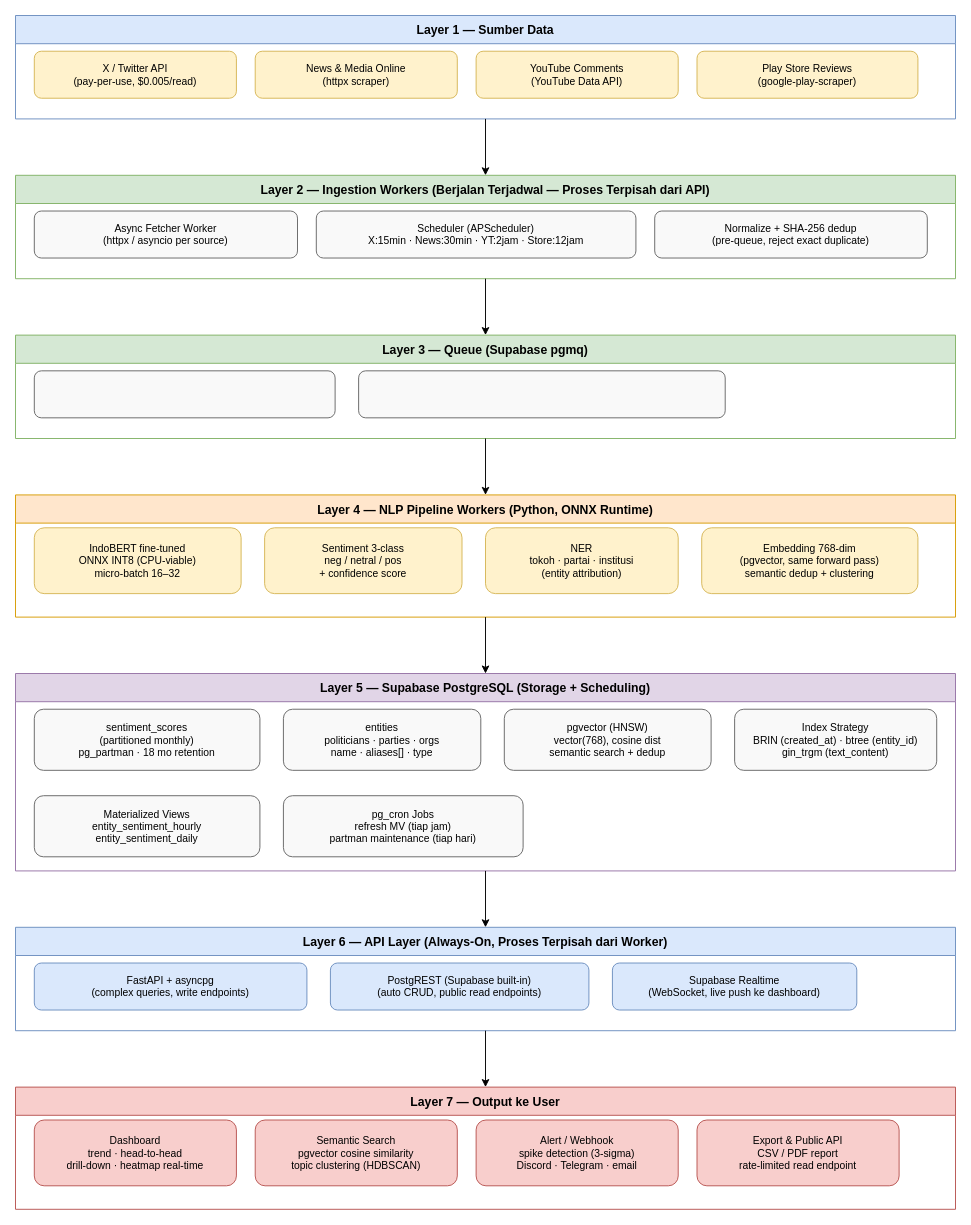
This 971x1225 diagram has some shape labels left out. The shapes that lost their labels are listed below. From the top down, each one's centre as x and y in pixels, then its label:
pixel 184 394: pgmq Queue visibility timeout · retry · dead-letter
pixel 541 394: Message Envelope {source, external_id, text, posted_at, content_hash}
